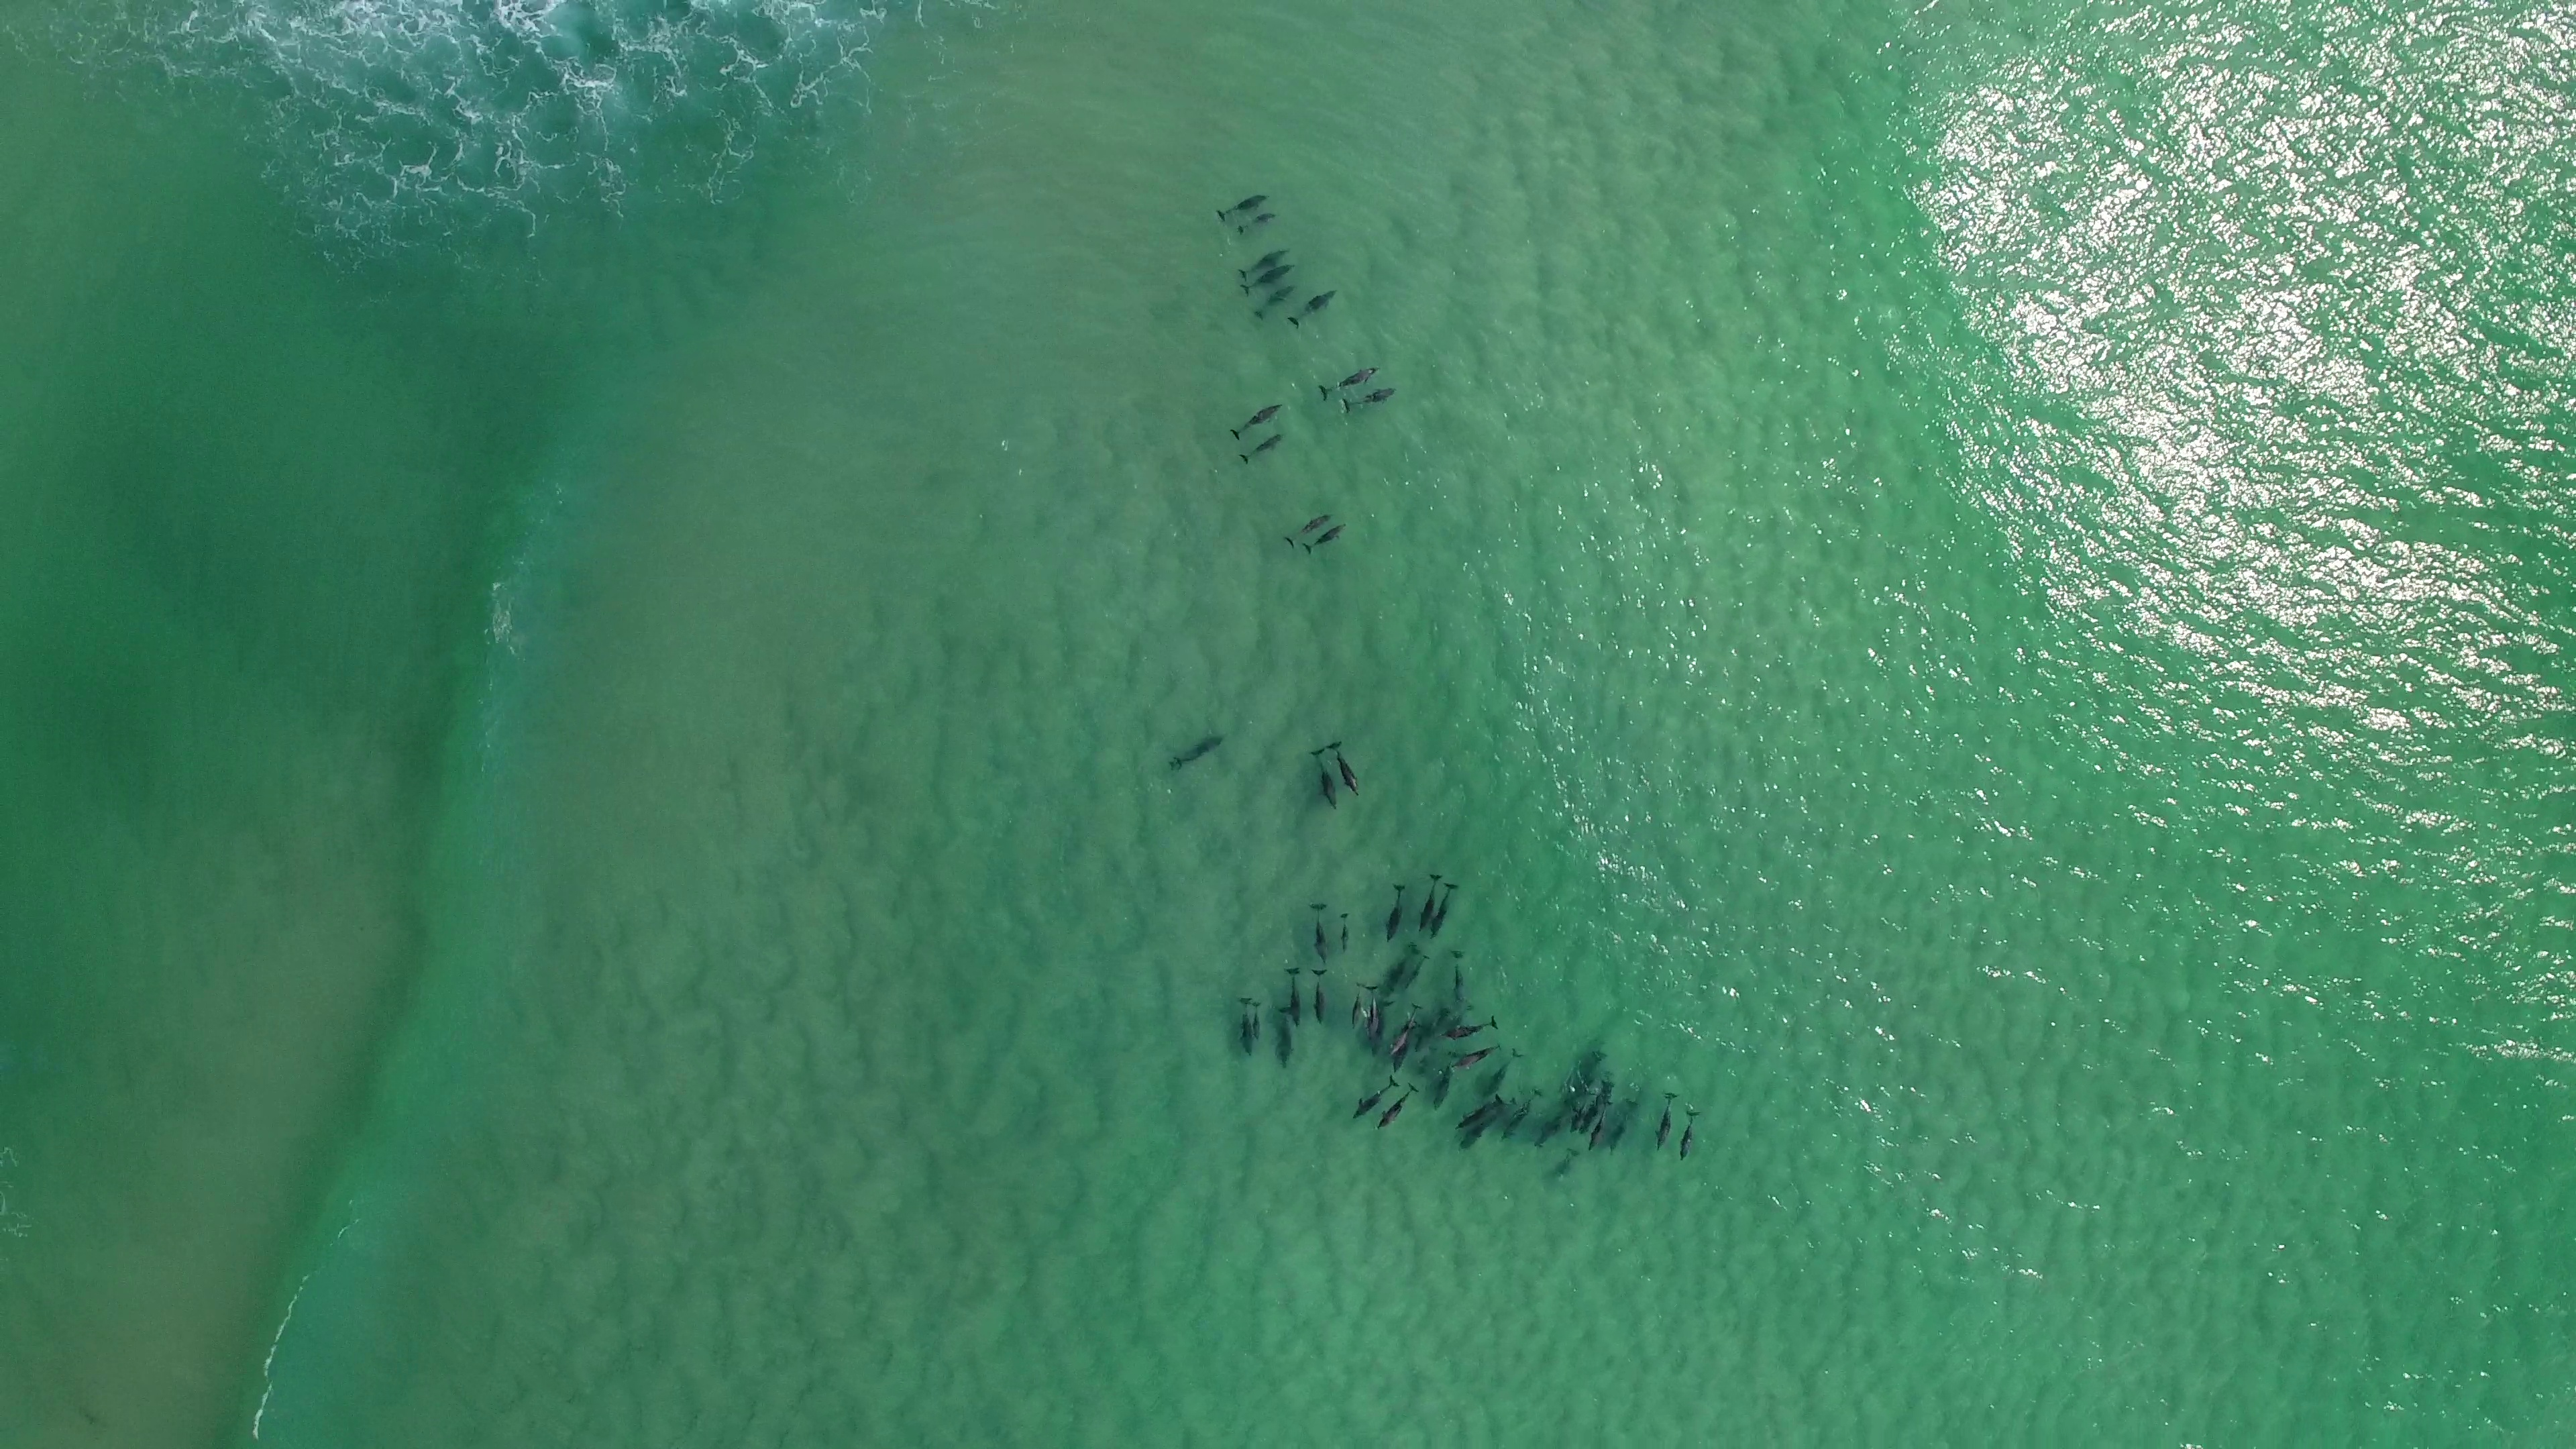dolphin: (1166, 727, 1224, 773), (1316, 361, 1385, 398), (1463, 1102, 1516, 1150), (1323, 741, 1366, 800), (1385, 1001, 1426, 1060), (1350, 1074, 1399, 1120), (1502, 1086, 1543, 1141), (1334, 382, 1399, 416), (1306, 748, 1339, 814), (1254, 276, 1300, 324), (1231, 400, 1284, 441), (1578, 1079, 1615, 1136), (1532, 1102, 1575, 1152), (1237, 260, 1300, 292), (1376, 1081, 1415, 1132), (1283, 508, 1336, 545), (1214, 189, 1269, 225), (1238, 244, 1293, 280), (1449, 1039, 1504, 1074), (1238, 430, 1293, 464), (1451, 1093, 1506, 1127), (1484, 1047, 1522, 1097), (1415, 872, 1445, 932), (1608, 1097, 1638, 1157), (1292, 287, 1336, 327), (1304, 517, 1348, 556), (1438, 1014, 1499, 1042), (1431, 879, 1458, 943), (1652, 1092, 1679, 1155), (1433, 1049, 1460, 1111), (1385, 943, 1417, 991), (1382, 883, 1407, 941), (1587, 1099, 1612, 1157), (1233, 994, 1254, 1062), (1368, 1000, 1394, 1053), (1309, 902, 1330, 966), (1309, 968, 1330, 1028), (1283, 964, 1302, 1028), (1569, 1086, 1596, 1132), (1679, 1109, 1702, 1161), (1233, 209, 1279, 234), (1276, 1005, 1292, 1076), (1451, 947, 1468, 1007), (1346, 980, 1366, 1030), (1364, 982, 1380, 1042), (1339, 913, 1352, 954), (1251, 1000, 1261, 1040)
